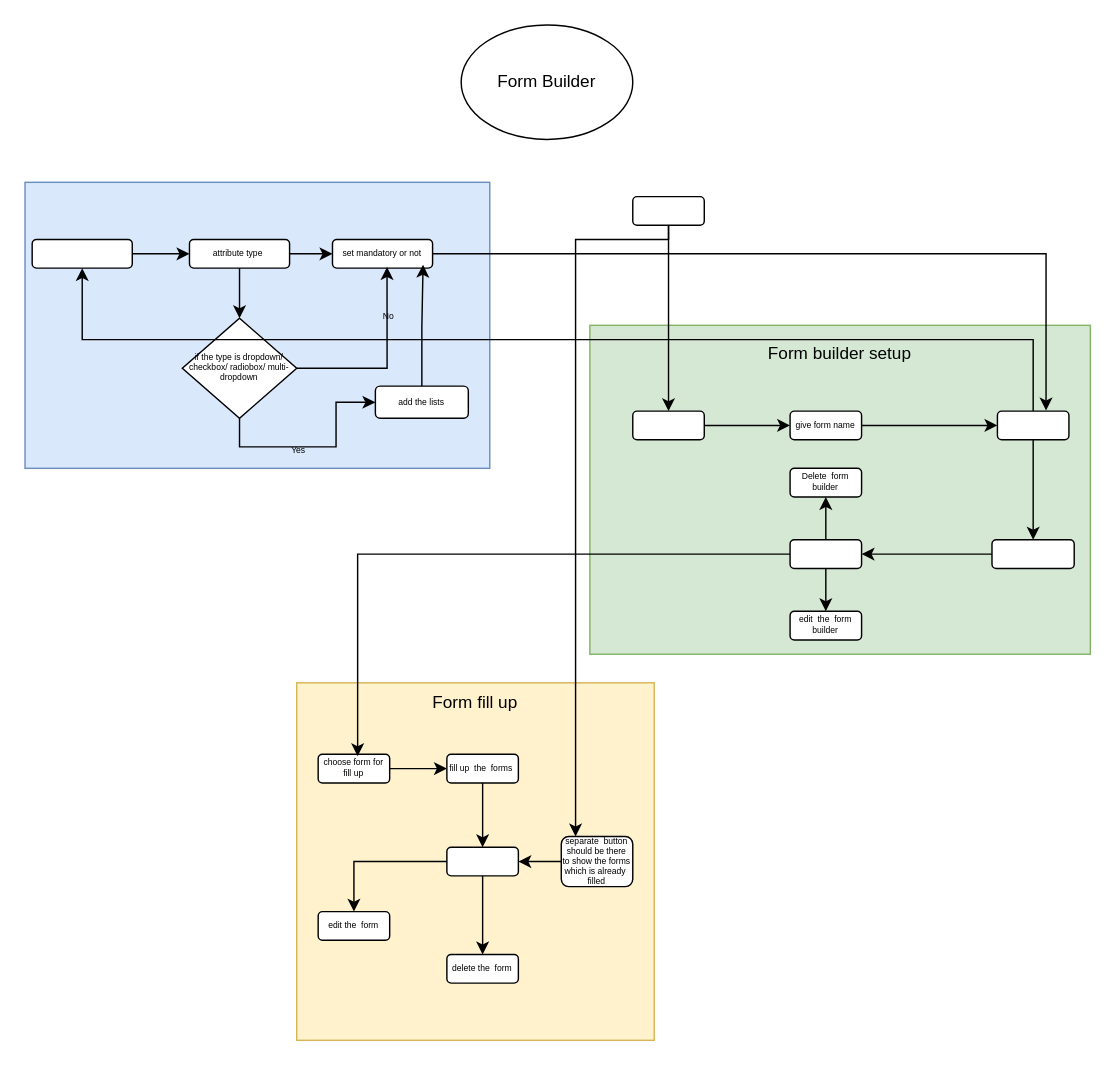
Some shapes in this 1115 by 1065 pixel diagram are drawn without their labels. Here are the shapes that lost their labels. From the top down, the box of each, then its label:
(631, 195, 704, 225): User
(31, 238, 132, 268): attribute name
(24, 181, 490, 468): Attribute details
(631, 410, 704, 440): form details
(996, 410, 1069, 440): attributes details
(789, 538, 862, 568): list of form builder per user
(991, 538, 1074, 568): competion of the form builder
(445, 846, 518, 876): filled up forms show in the list
